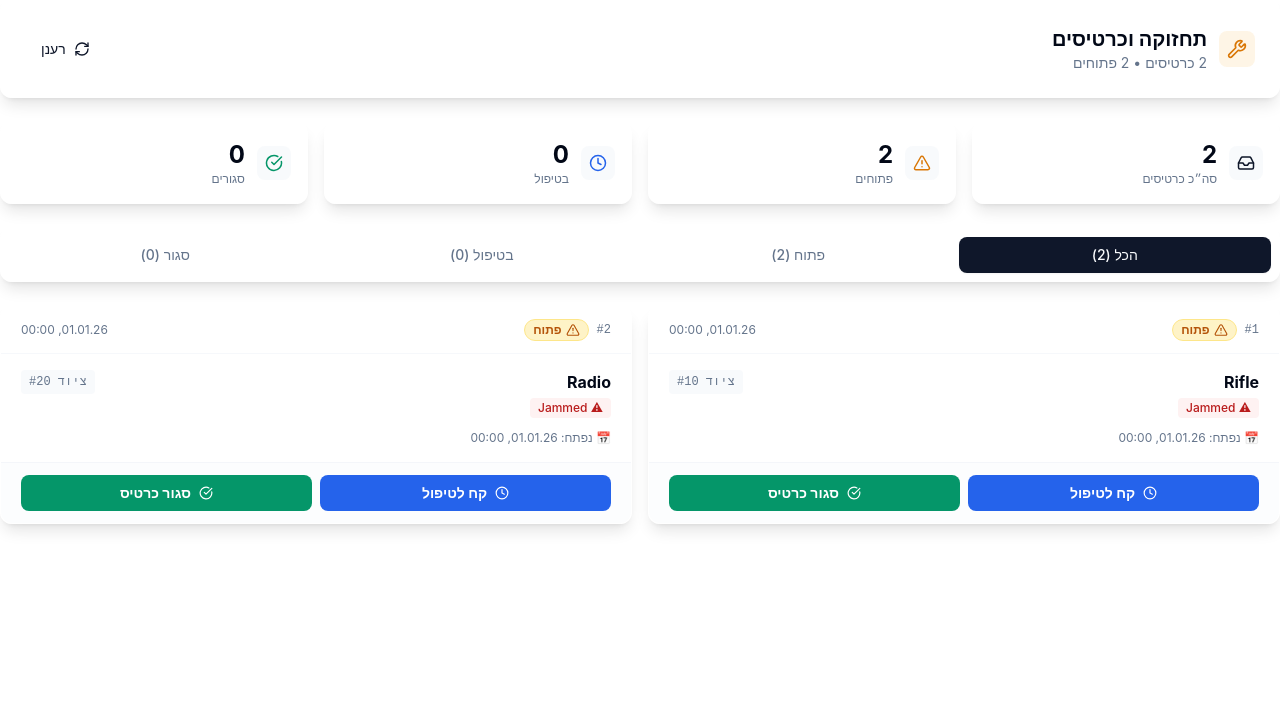
Test: MaintenancePage: reloads after closing tickets (FE-H5) › two closes: the second reload aborts the first, whose late answer is dropped
What coordinates should you click on to do the following:
click the button "סגור כרטיס" below "10"
I would click on:
 (814, 493)
Its box is [669,475,960,511].
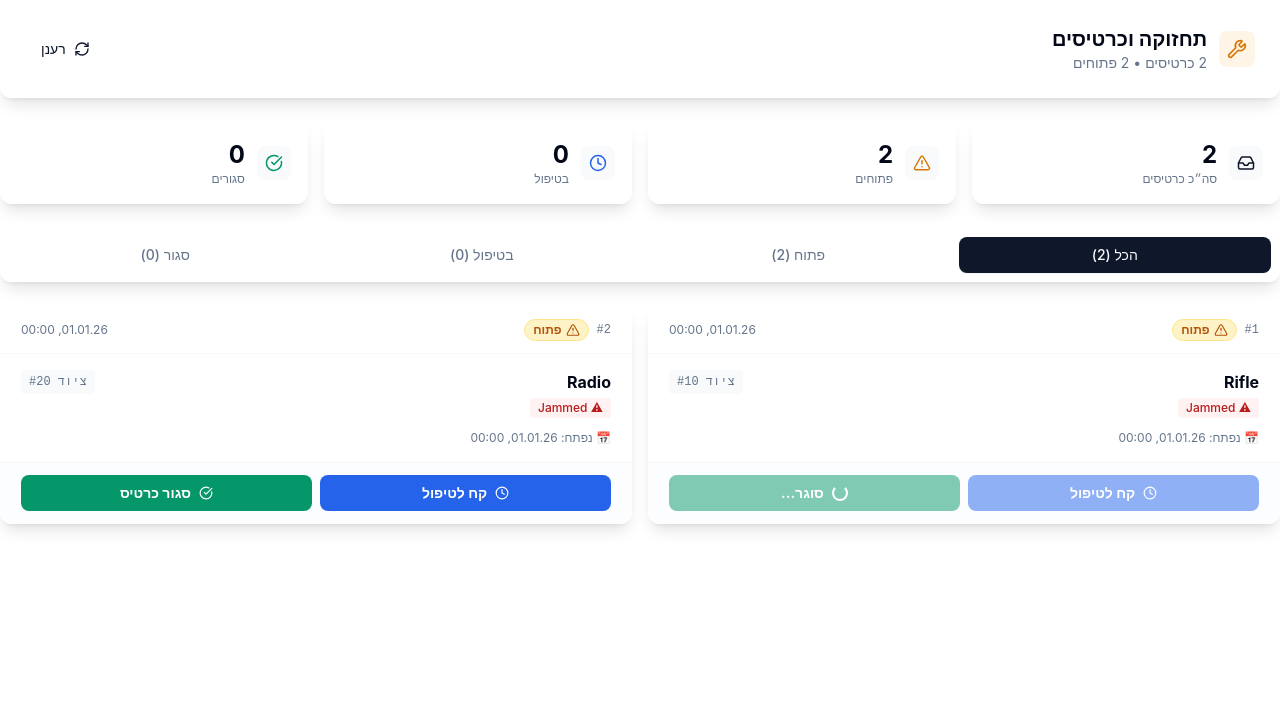
What coordinates should you click on to do the following:
click the button "סגור כרטיס"
I would click on:
 (166, 493)
Its box is [21,475,312,511].
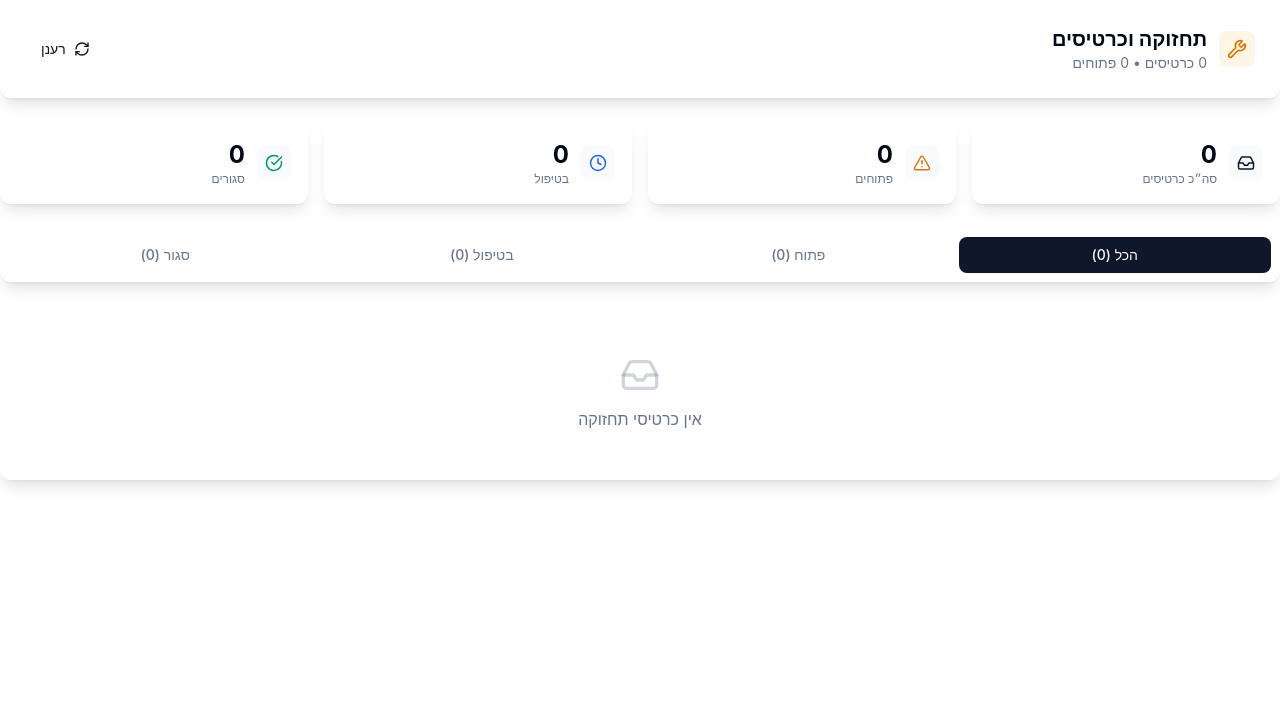
Check: the heading "Radio" is gone
